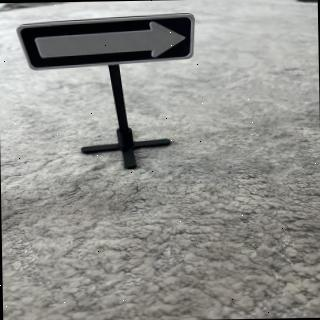sign_oneway_right: (17, 12, 198, 73)
